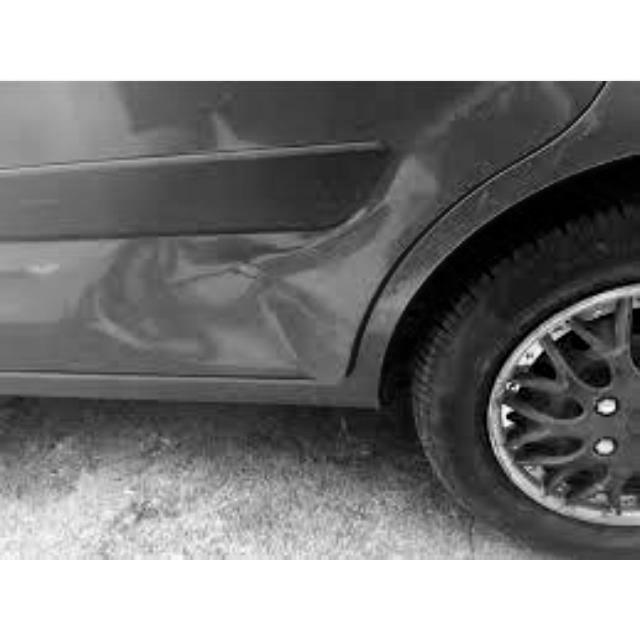doorouter-dent: (67, 145, 398, 395)
